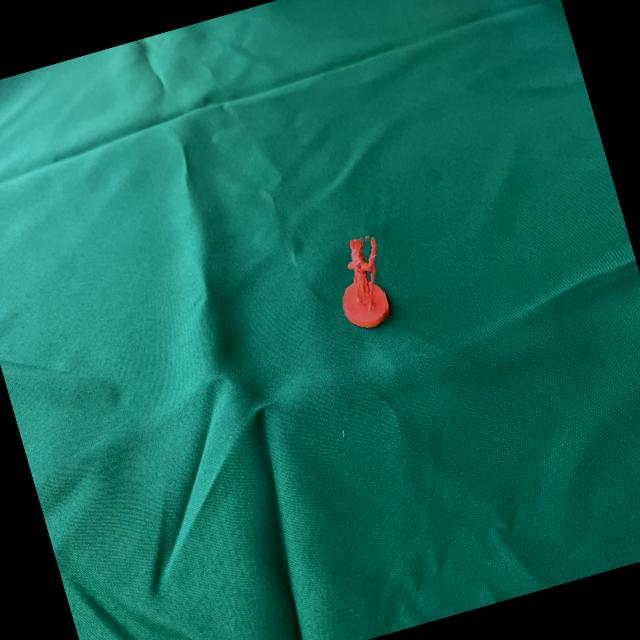amon_follower: (342, 236, 387, 328)
